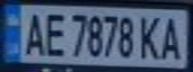7: (66, 10, 87, 57), (100, 11, 121, 57)
8: (115, 12, 139, 59), (84, 11, 106, 58)
A: (157, 12, 187, 61), (18, 9, 48, 57)
E: (39, 9, 69, 57)
K: (136, 12, 163, 61)
